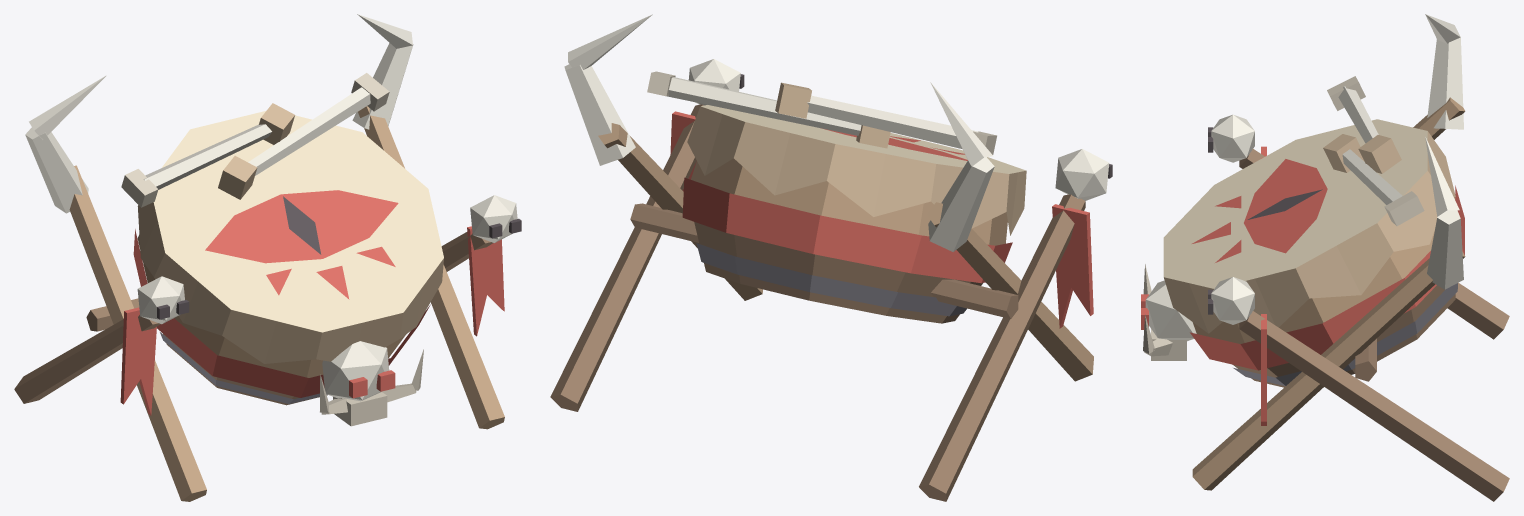
Rendered from prop_grukk_wardrum.glb.
3 renders of one model, left to right at view 1: azimuth 30°, elevation 25°; view 2: azimuth 150°, elevation 25°; view 3: azimuth 270°, elevation 25°, orthographic. The views are drawn at different scales.
Parts seen in each view (by area): view 1: prop_grukk_wardrum; view 2: prop_grukk_wardrum; view 3: prop_grukk_wardrum.
Part boxes in pixels (left/top/right/bottom): prop_grukk_wardrum: left=14, top=14, right=521, bottom=501; prop_grukk_wardrum: left=550, top=14, right=1112, bottom=501; prop_grukk_wardrum: left=1141, top=14, right=1509, bottom=501.
Bounding box in the file's own units: 2.22 × 1.89 × 1.84.
